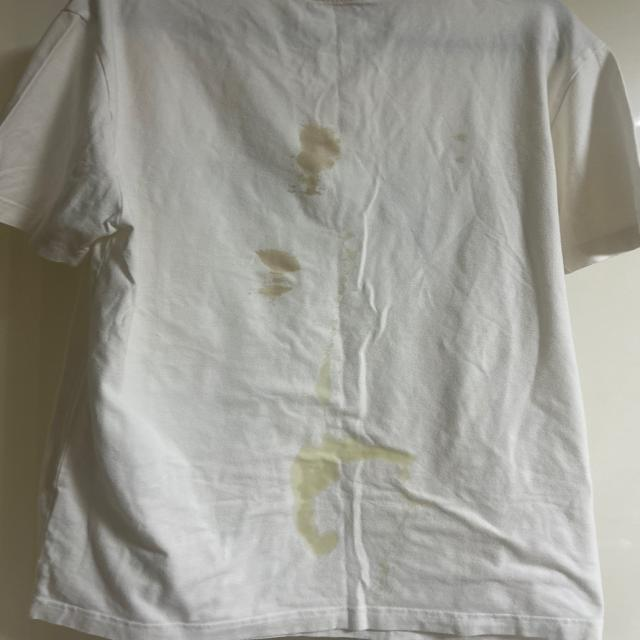stain: (282, 434, 343, 565), (291, 123, 347, 201), (322, 427, 388, 470), (389, 468, 442, 519), (306, 339, 338, 413), (255, 242, 298, 296), (381, 434, 424, 466), (334, 222, 366, 262), (442, 128, 468, 170)
